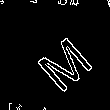M_NW: (21, 21, 89, 89)
